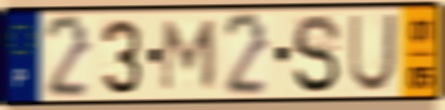2: (42, 11, 96, 104), (220, 9, 274, 101)
3: (98, 16, 144, 97)
M: (158, 18, 220, 95)
S: (290, 11, 344, 96)
U: (347, 11, 400, 95)
